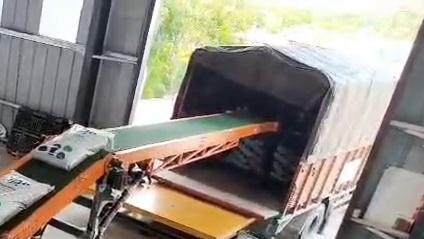box: (34, 124, 113, 170), (0, 172, 53, 226)
